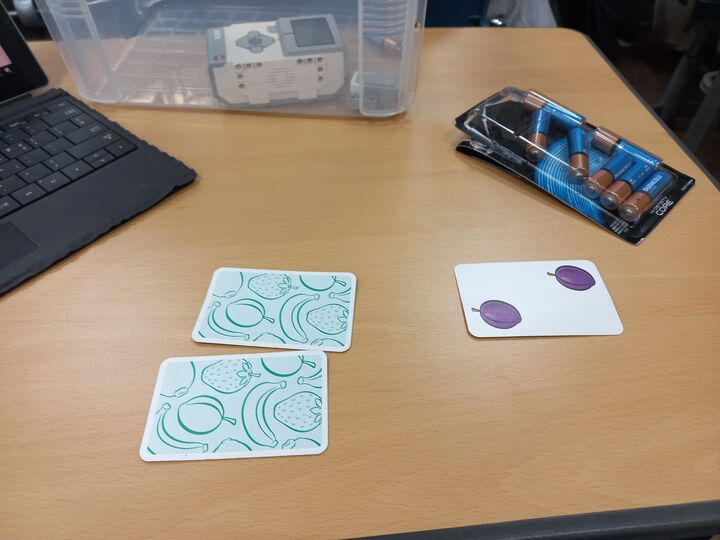plum2: (453, 259, 627, 339)
